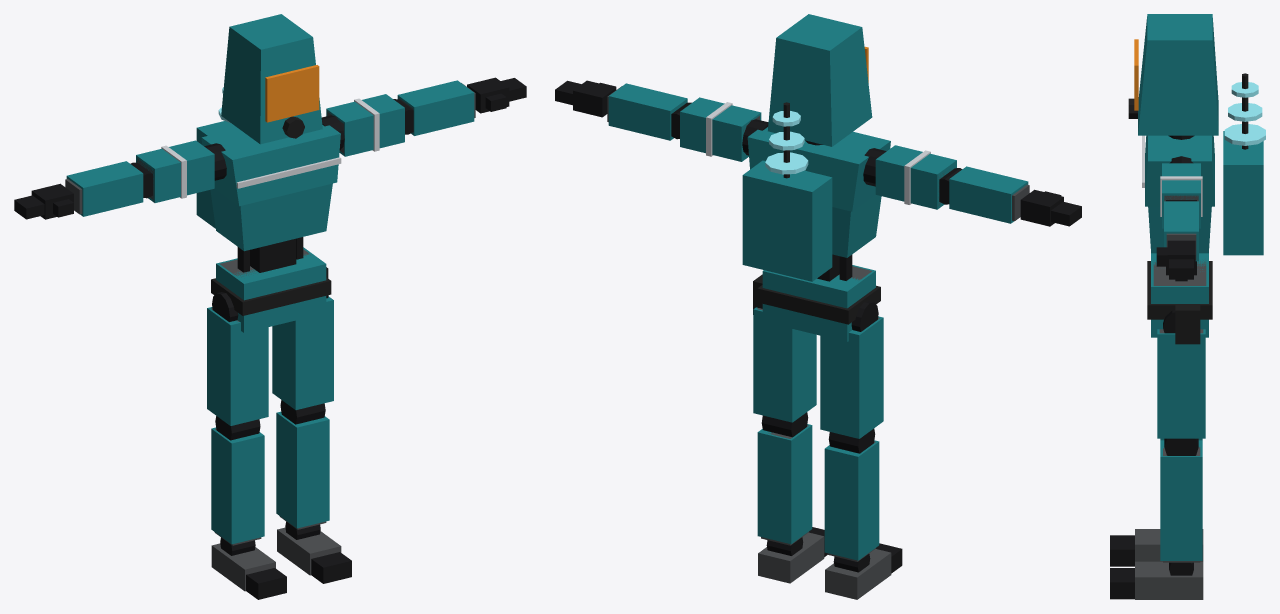
Rendered from char_F1_scientist.obj.
The picture shows the model from 3 angles, left to right: view 1: azimuth 30°, elevation 25°; view 2: azimuth 150°, elevation 25°; view 3: azimuth 270°, elevation 25°; orthographic projection. The views are drawn at different scales.
Visible parts, largest first — view 1: Coverall_Science, ChassisJoints, Helmet_Hazmat, Chassis, Helmet_Hazmat_Visor, ToolBelt, Coverall_Science_Stripe, Pack_PurgeEmitter; view 2: Coverall_Science, Helmet_Hazmat, Pack_PurgeEmitter, ChassisJoints, Chassis, ToolBelt, Pack_PurgeEmitter_Field, Coverall_Science_Stripe; view 3: Coverall_Science, Helmet_Hazmat, Chassis, Pack_PurgeEmitter, ChassisJoints, ToolBelt, Pack_PurgeEmitter_Field, Coverall_Science_Stripe, Helmet_Hazmat_Visor, Pack_PurgeEmitter_Mast.
Boxes of the visible parts, x1,y1,x2,y2 form: Coverall_Science: [66, 80, 474, 544]; ChassisJoints: [14, 77, 526, 599]; Helmet_Hazmat: [221, 14, 322, 144]; Chassis: [65, 83, 475, 591]; Helmet_Hazmat_Visor: [265, 65, 319, 122]; ToolBelt: [211, 267, 331, 315]; Coverall_Science_Stripe: [161, 98, 379, 198]; Pack_PurgeEmitter: [196, 121, 237, 228]; Coverall_Science: [608, 83, 1028, 560]; Helmet_Hazmat: [768, 14, 872, 146]; Pack_PurgeEmitter: [742, 160, 832, 281]; ChassisJoints: [555, 80, 1081, 573]; Chassis: [607, 86, 1029, 599]; ToolBelt: [753, 274, 880, 324]; Pack_PurgeEmitter_Field: [765, 111, 808, 174]; Coverall_Science_Stripe: [706, 102, 930, 204]; Coverall_Science: [1145, 135, 1214, 560]; Helmet_Hazmat: [1138, 14, 1218, 135]; Chassis: [1135, 195, 1206, 599]; Pack_PurgeEmitter: [1223, 131, 1263, 255]; ChassisJoints: [1110, 135, 1198, 599]; ToolBelt: [1147, 261, 1212, 344]; Pack_PurgeEmitter_Field: [1224, 82, 1265, 145]; Coverall_Science_Stripe: [1142, 135, 1202, 216]; Helmet_Hazmat_Visor: [1134, 39, 1138, 110]; Pack_PurgeEmitter_Mast: [1242, 73, 1248, 149].
Bounding box in the file's own units: 1.92 × 1.95 × 0.5016.
